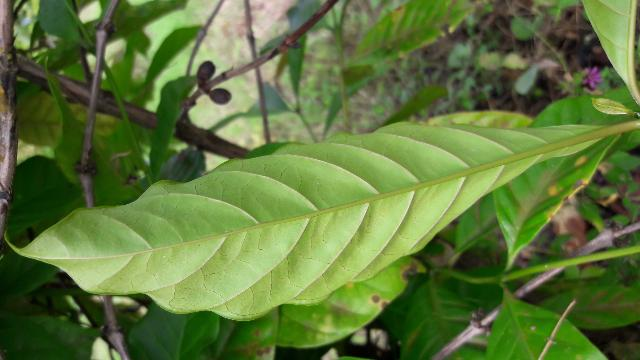healthy: (12, 124, 618, 320)
